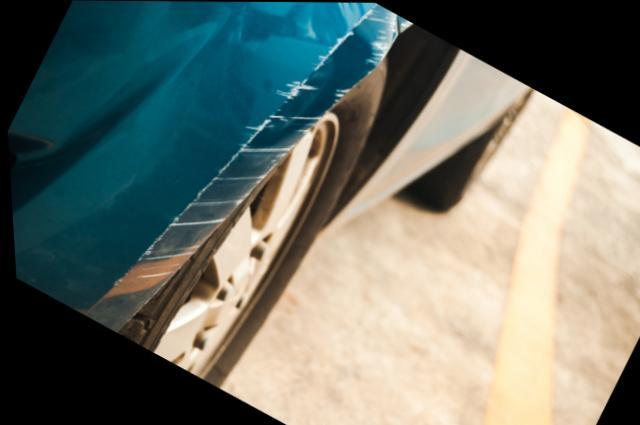scratch: (103, 2, 414, 289)
